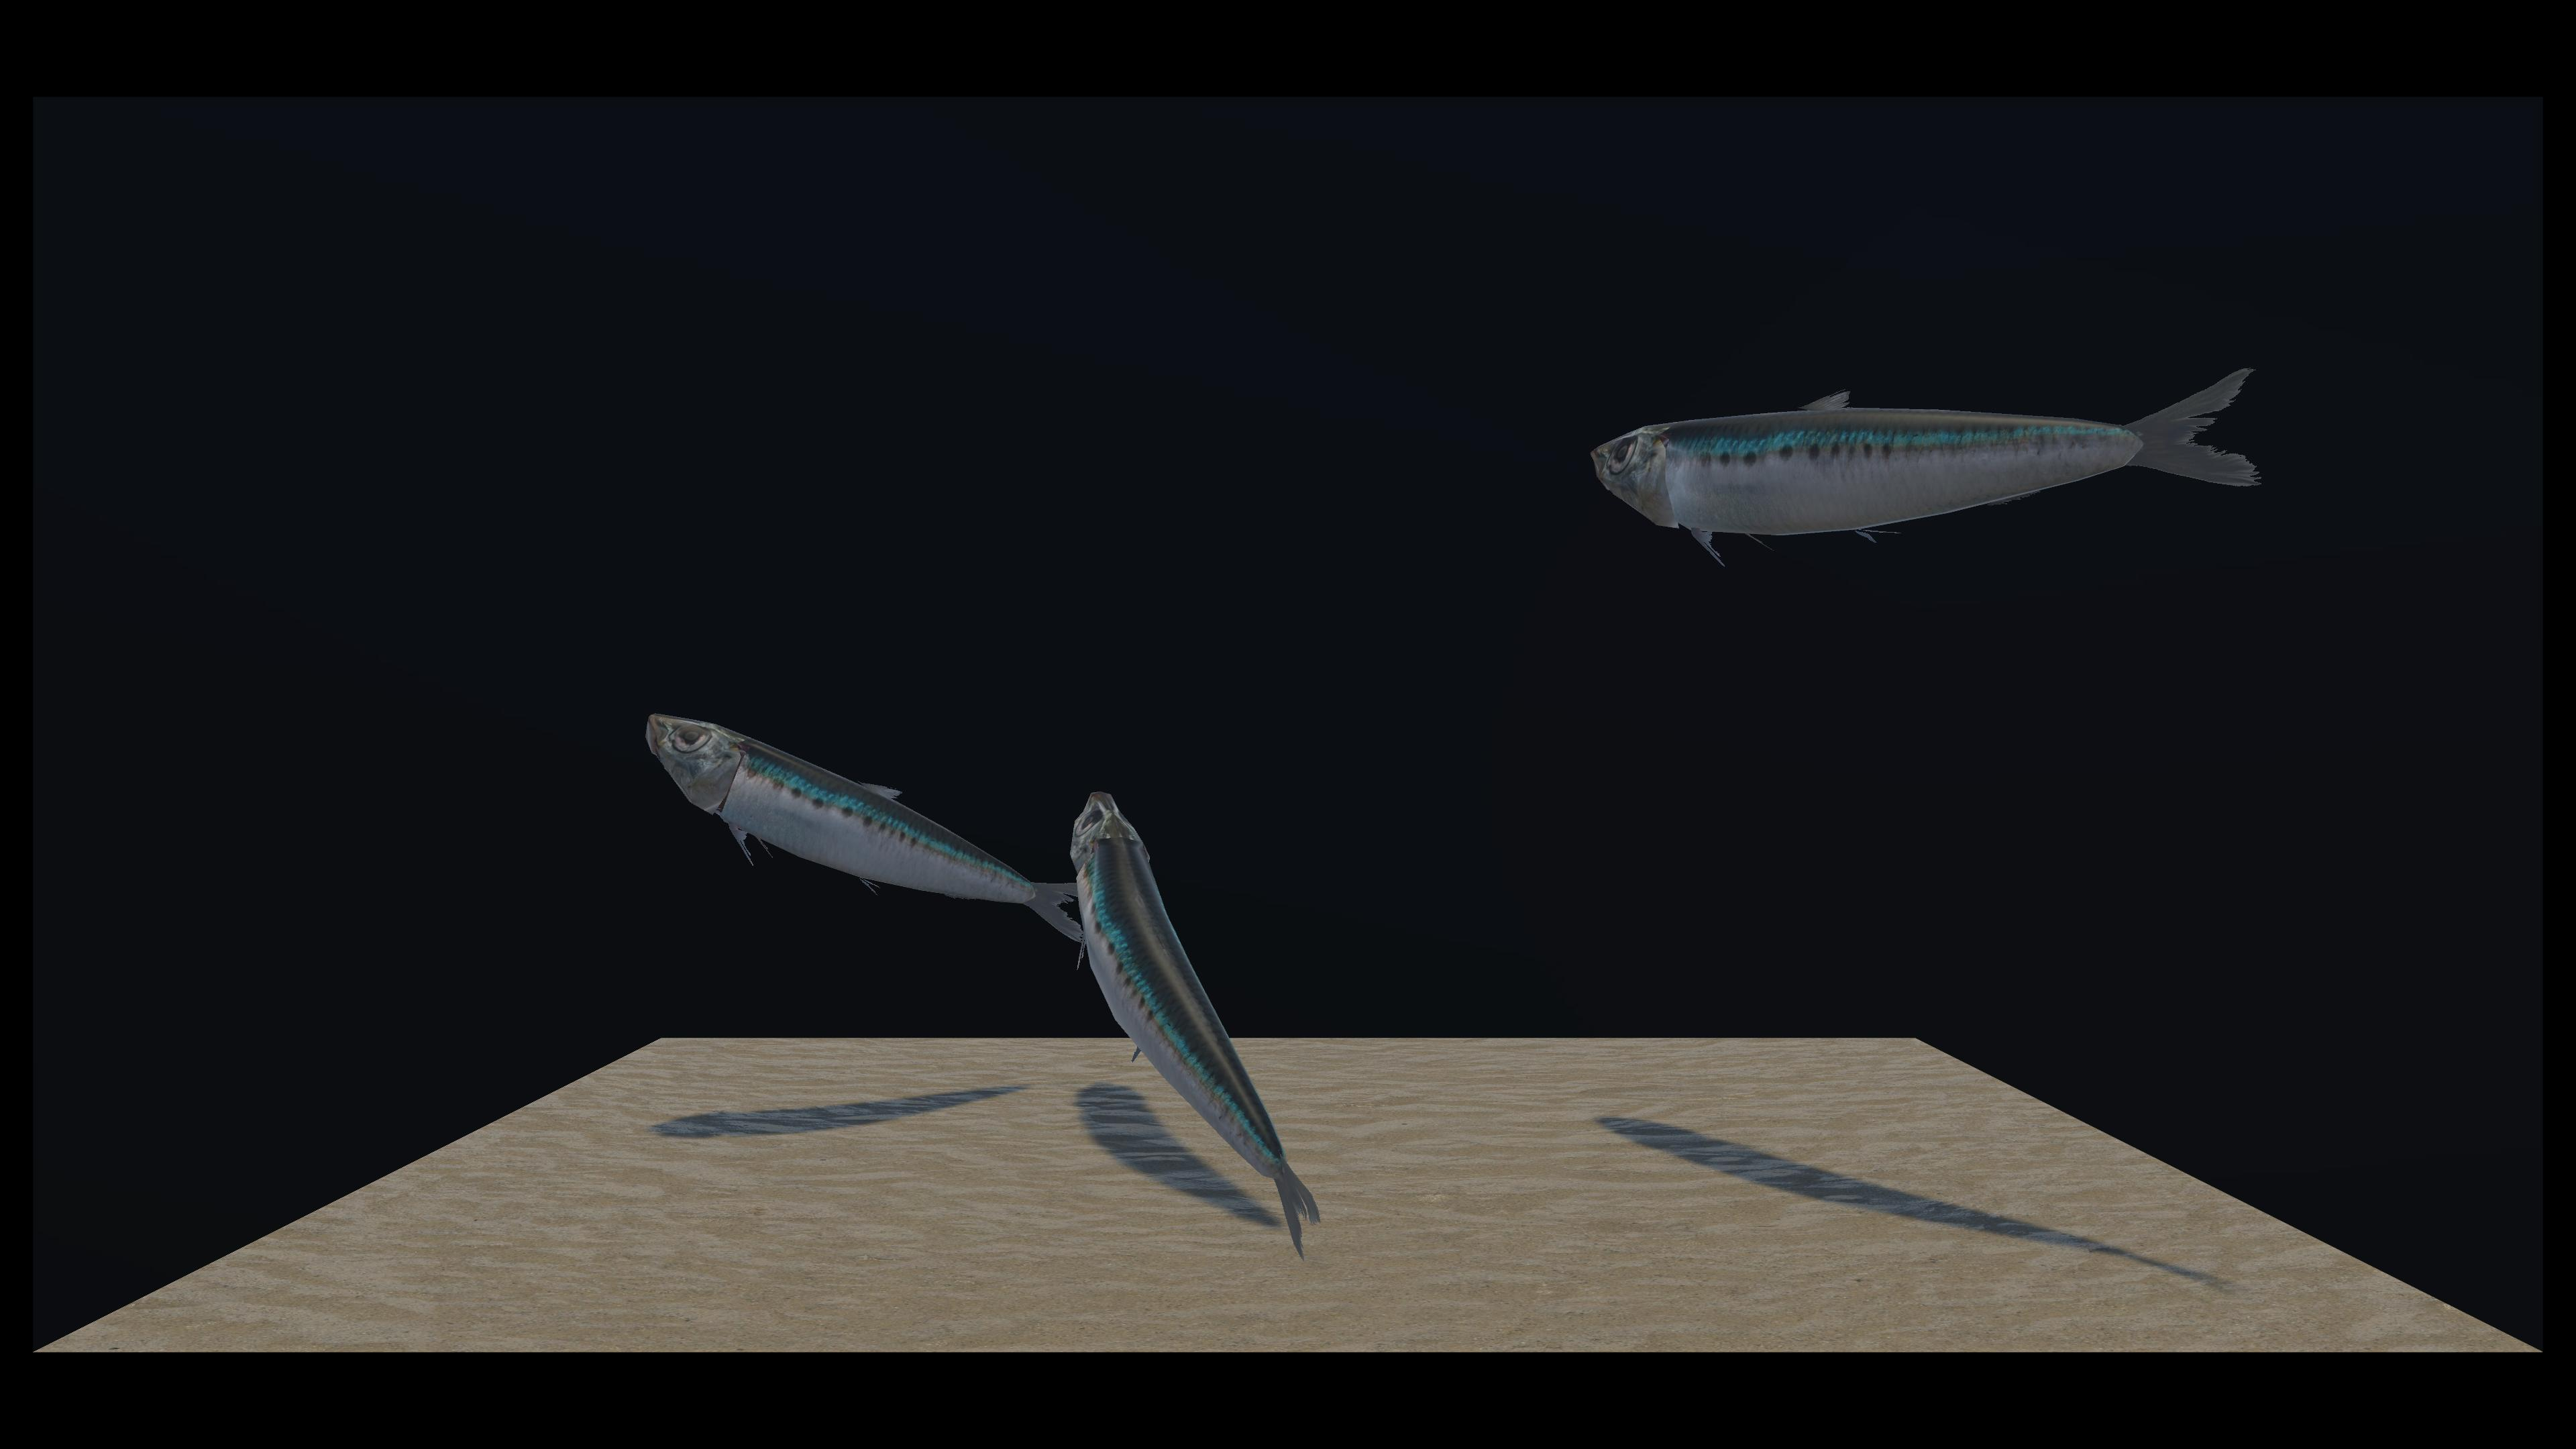Sardine_Front: (591, 747, 1320, 1284), (1030, 361, 2252, 639), (658, 441, 1102, 943)
